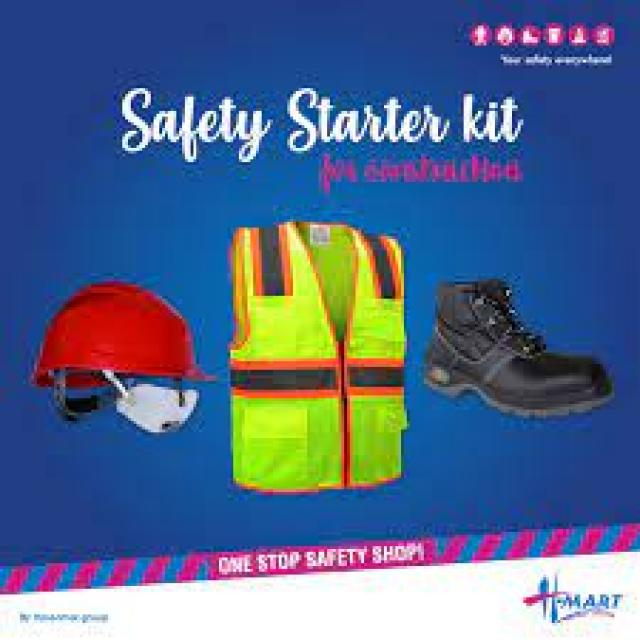Reflective-Jacket: (213, 210, 432, 500)
Safety-Helmet: (20, 273, 222, 398)
